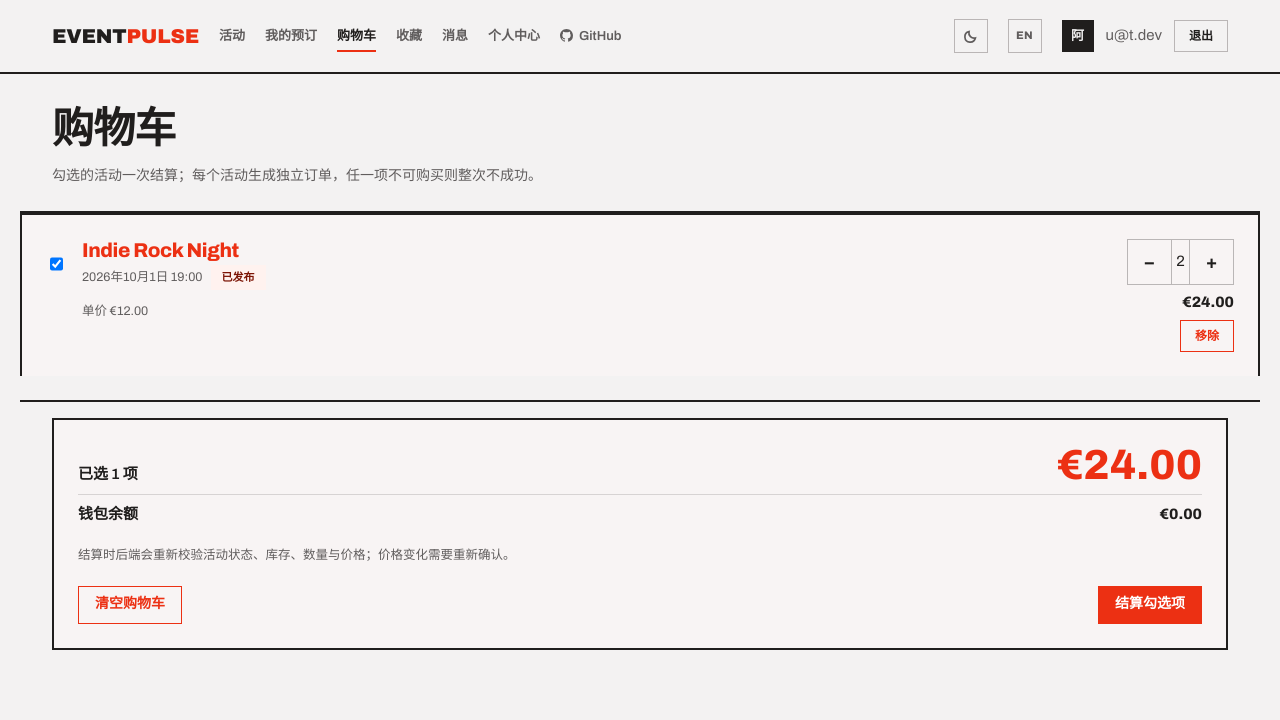
CartPage › keeps the idempotency key on failure and reuses it on retry
This screenshot has width=1280, height=720.
Expected: the link "Indie Rock Night" is shown, [82,239,239,261]
Click the button "结算勾选项".
click(1150, 605)  # box [1098,586,1202,624]
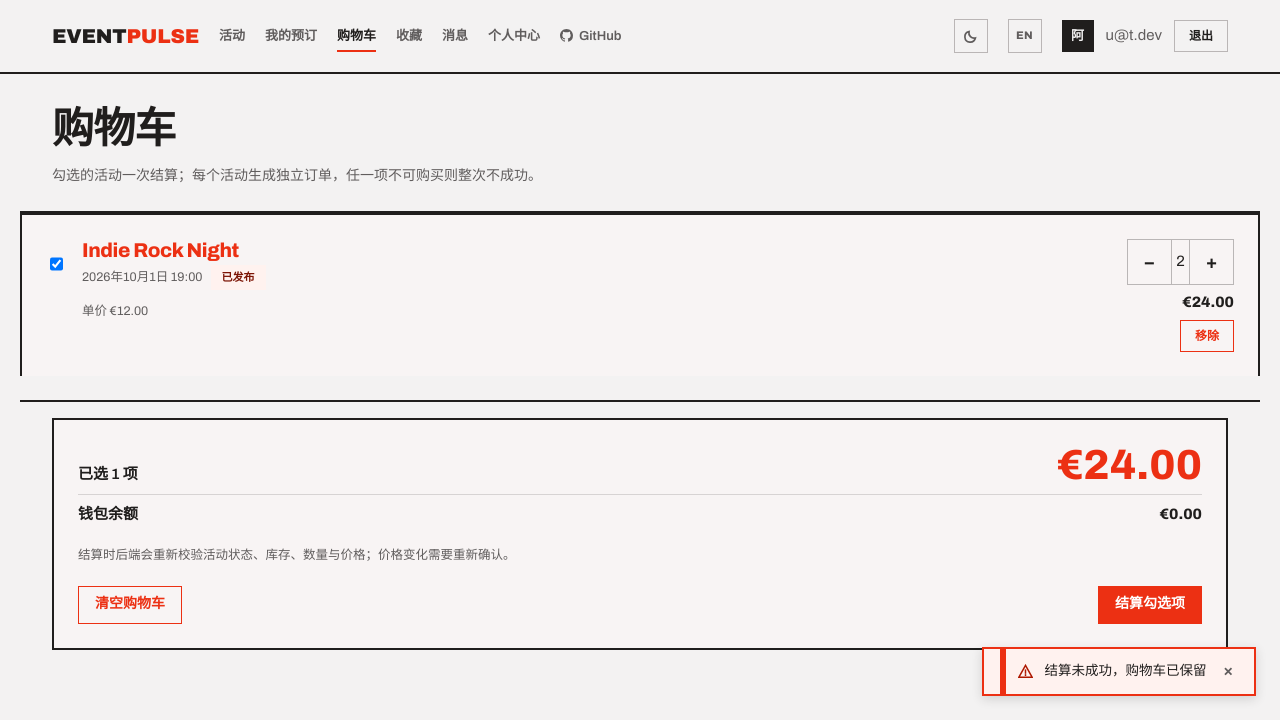
Click the button "结算勾选项".
click(1150, 605)  # box [1098,586,1202,624]
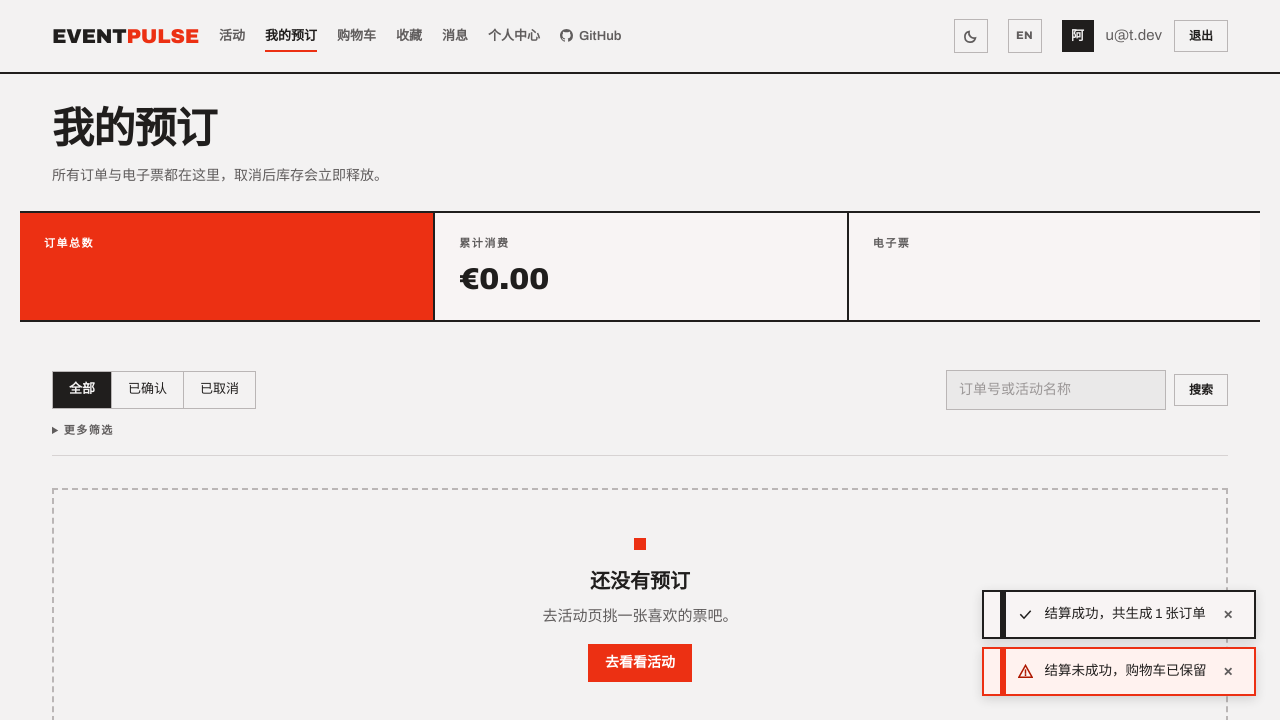
Now the text "结算成功，共生成 1 张订单" is shown, box [1044,604,1206,625]
